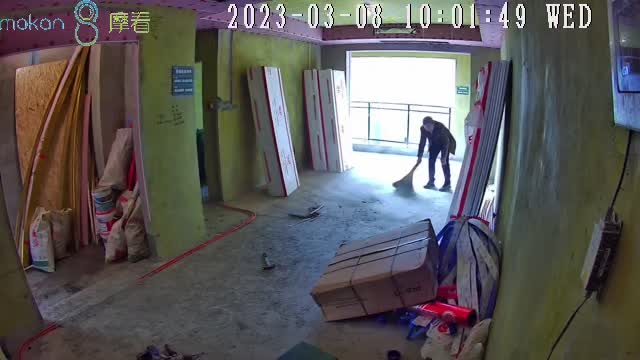people: (417, 116, 456, 191)
window: (350, 58, 451, 143)
